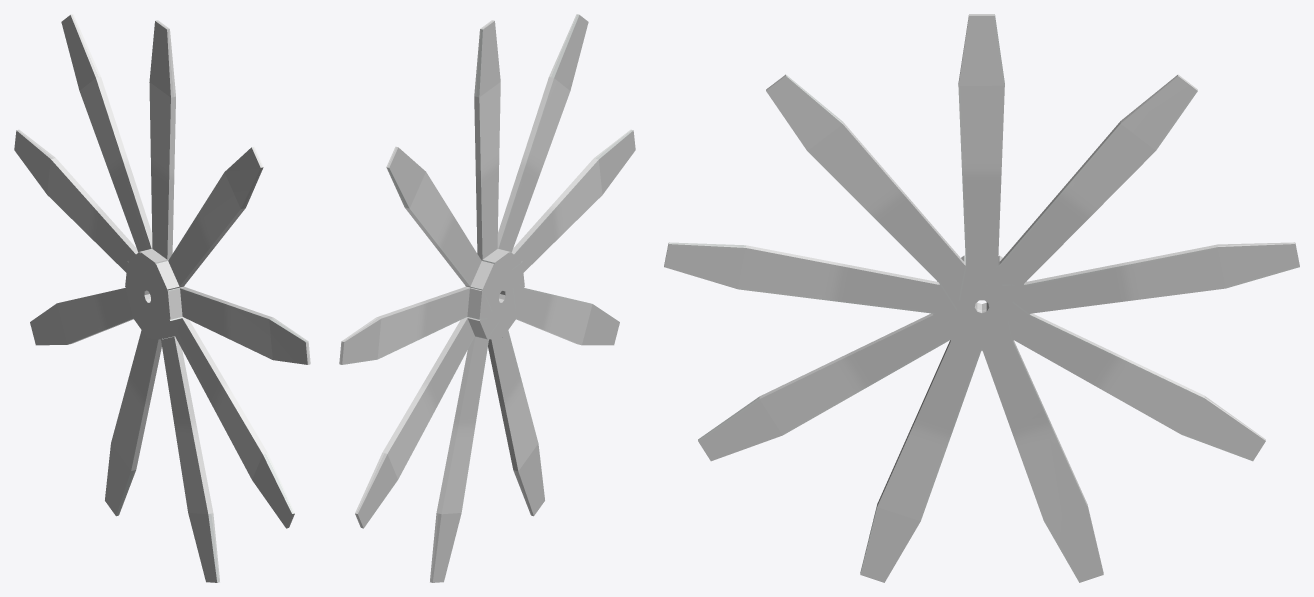
Rendered from HelicopterPropeller1.obj.
3 renders of one model, left to right at view 1: azimuth 30°, elevation 25°; view 2: azimuth 150°, elevation 25°; view 3: azimuth 270°, elevation 25°, orthographic. The views are drawn at different scales.
Parts seen in each view (by area): view 1: Propeller; view 2: Propeller; view 3: Propeller.
Boxes of the visible parts, left/top/right/bottom form: Propeller: left=14, top=14, right=310, bottom=582; Propeller: left=339, top=14, right=635, bottom=582; Propeller: left=664, top=14, right=1299, bottom=582.
Bounding box in the file's own units: 0.1283 × 3.66 × 3.72.
1 material, 1 textured.
